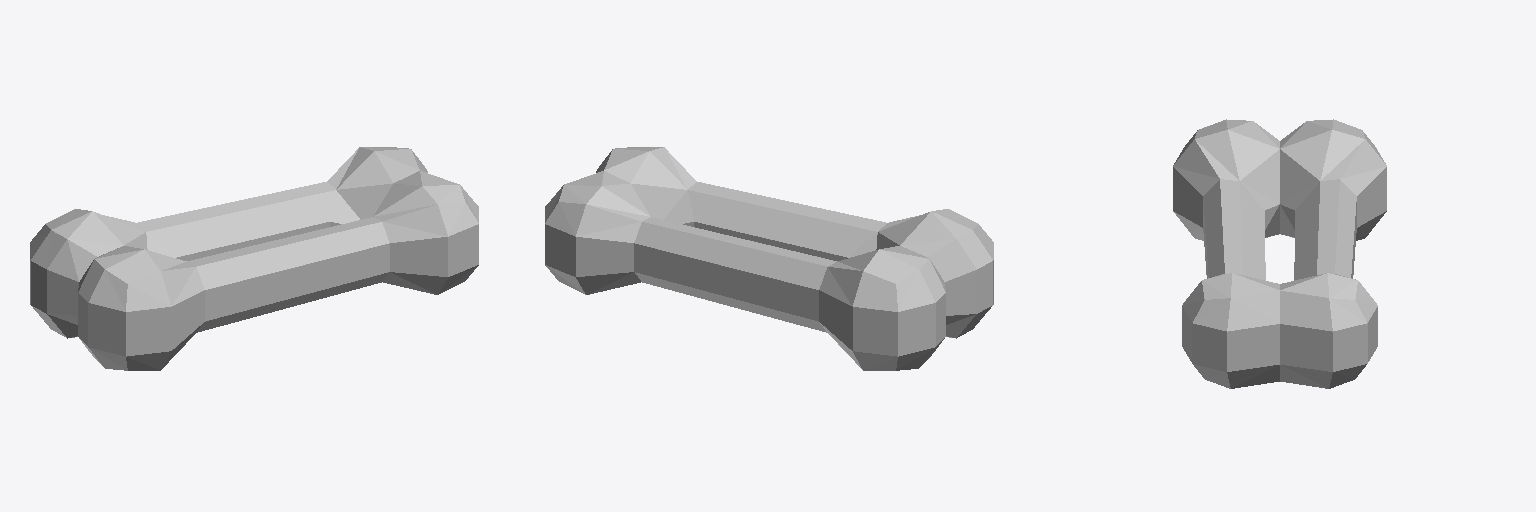
Rendered from bone_B.obj.
The picture shows the model from 3 angles: view 1: azimuth 30°, elevation 25°; view 2: azimuth 150°, elevation 25°; view 3: azimuth 270°, elevation 25°; orthographic projection.
Visible parts, largest first — view 1: bone_B_Cube.545; view 2: bone_B_Cube.545; view 3: bone_B_Cube.545.
Part boxes in pixels (x1,y1,x2,y2): bone_B_Cube.545: (30, 147, 478, 370); bone_B_Cube.545: (545, 147, 993, 370); bone_B_Cube.545: (1173, 119, 1386, 388).
Size of the model in its own units: 0.6063 by 0.1747 by 0.2867.